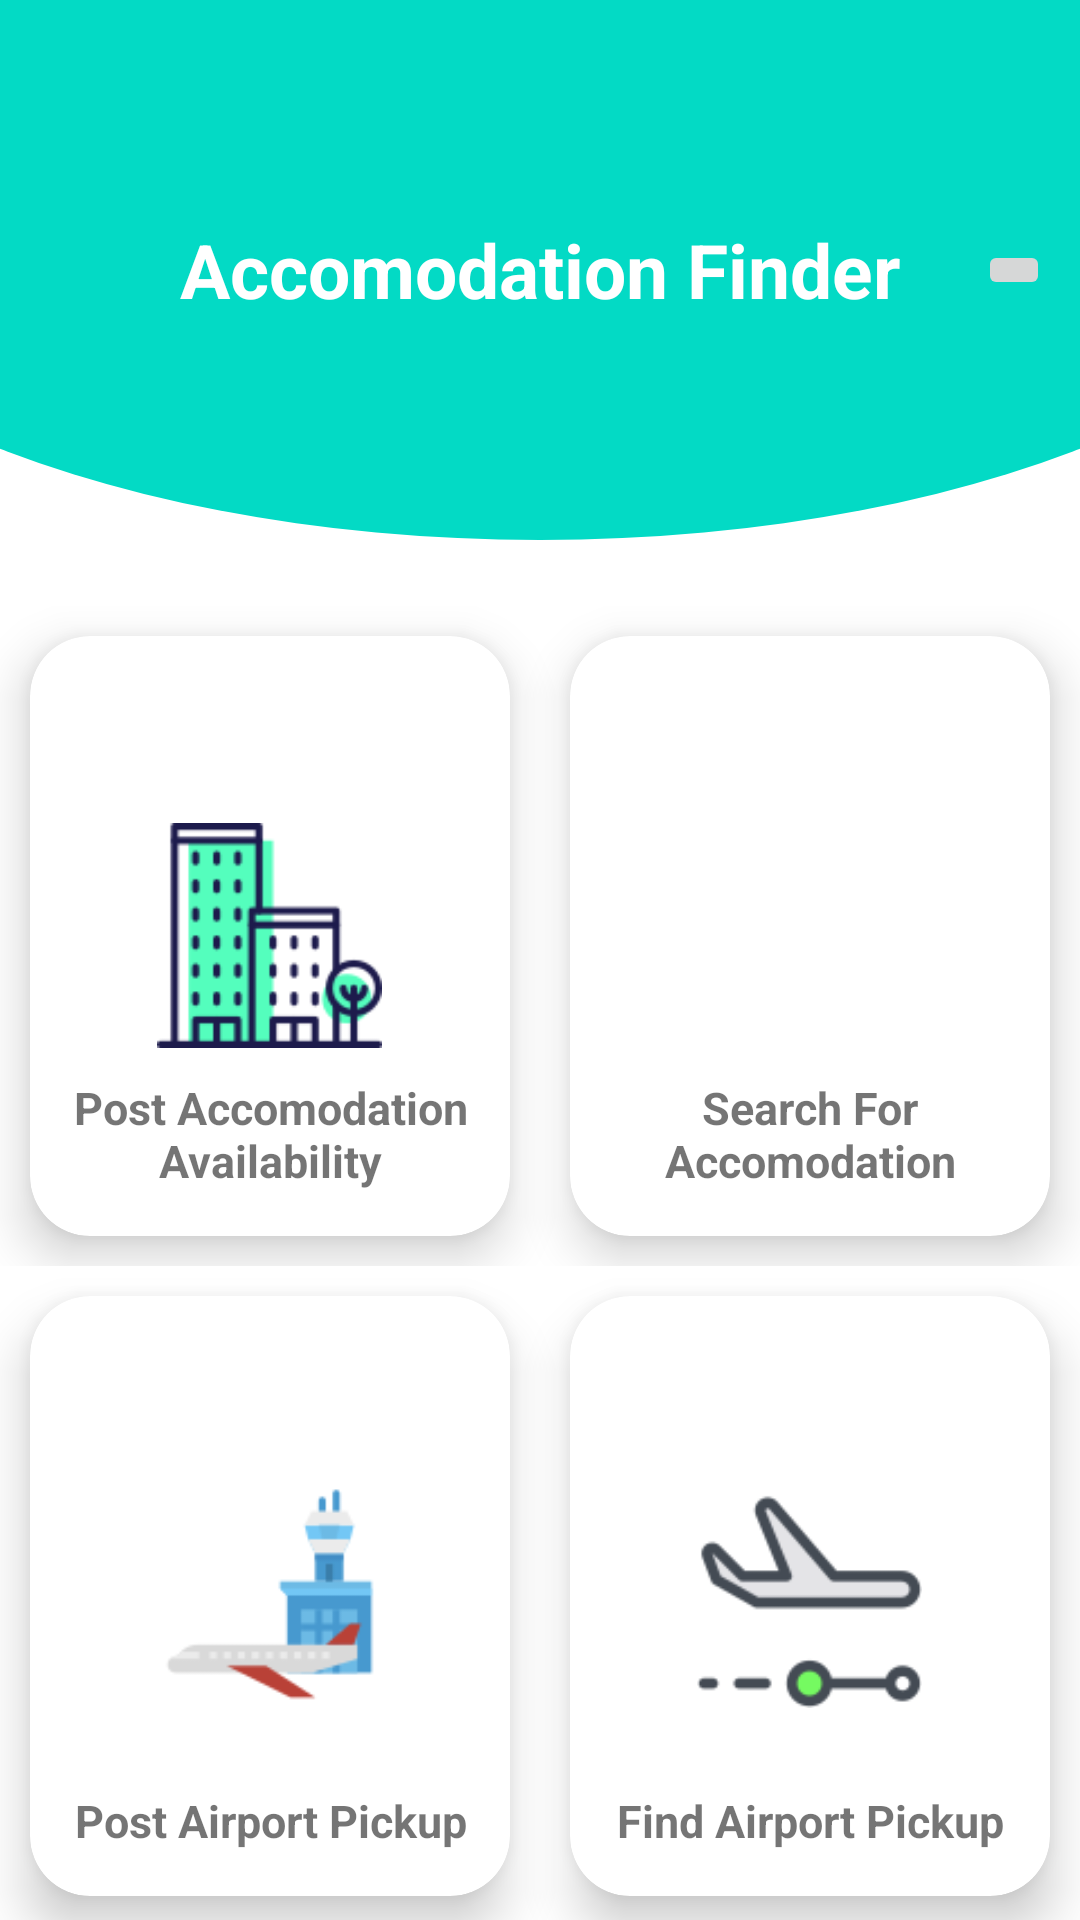

Where to tap for icons on this 1080w x 1920h app screen, as (x,y):
findpickup: (810,1602)
